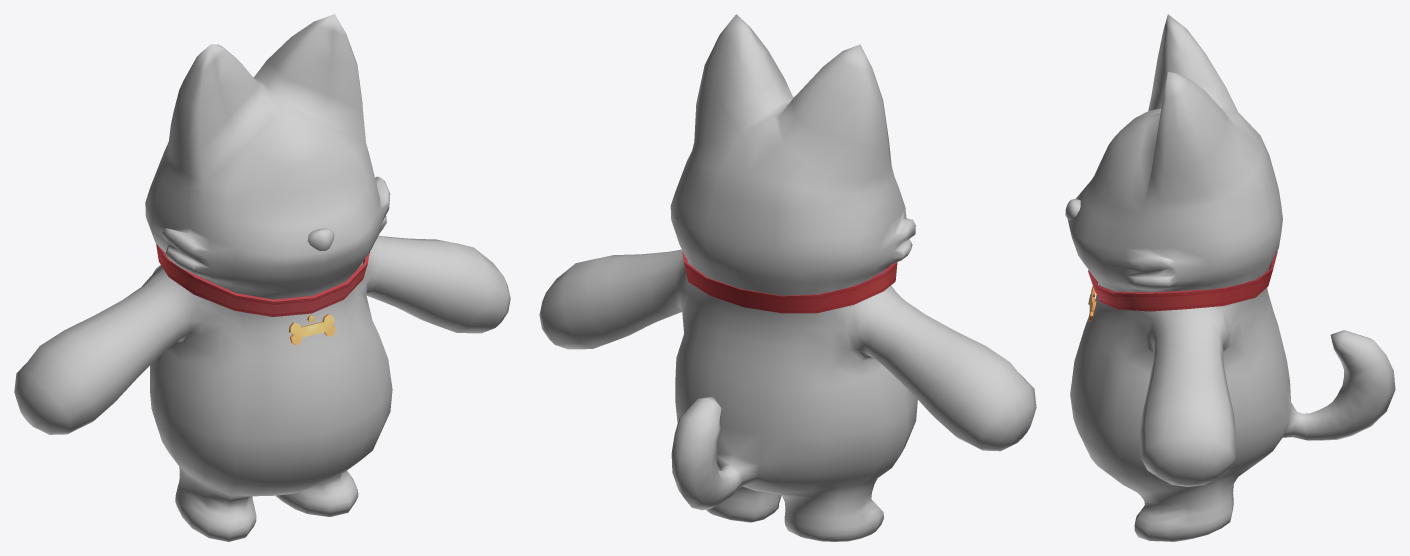
The model's file is dog_Lv1.fbx.
The picture shows the model from 3 angles, left to right: view 1: azimuth 30°, elevation 25°; view 2: azimuth 150°, elevation 25°; view 3: azimuth 270°, elevation 25°; orthographic projection. The views are drawn at different scales.
Parts seen in each view (by area): view 1: dog, necklace; view 2: dog, necklace; view 3: dog, necklace.
Part boxes in pixels (x1,y1,x2,y2): dog: [14, 14, 510, 541]; necklace: [156, 244, 369, 345]; dog: [539, 14, 1036, 541]; necklace: [682, 251, 897, 313]; dog: [1065, 14, 1395, 541]; necklace: [1088, 251, 1277, 321].
Size of the model in its own units: 162 by 159 by 102.
